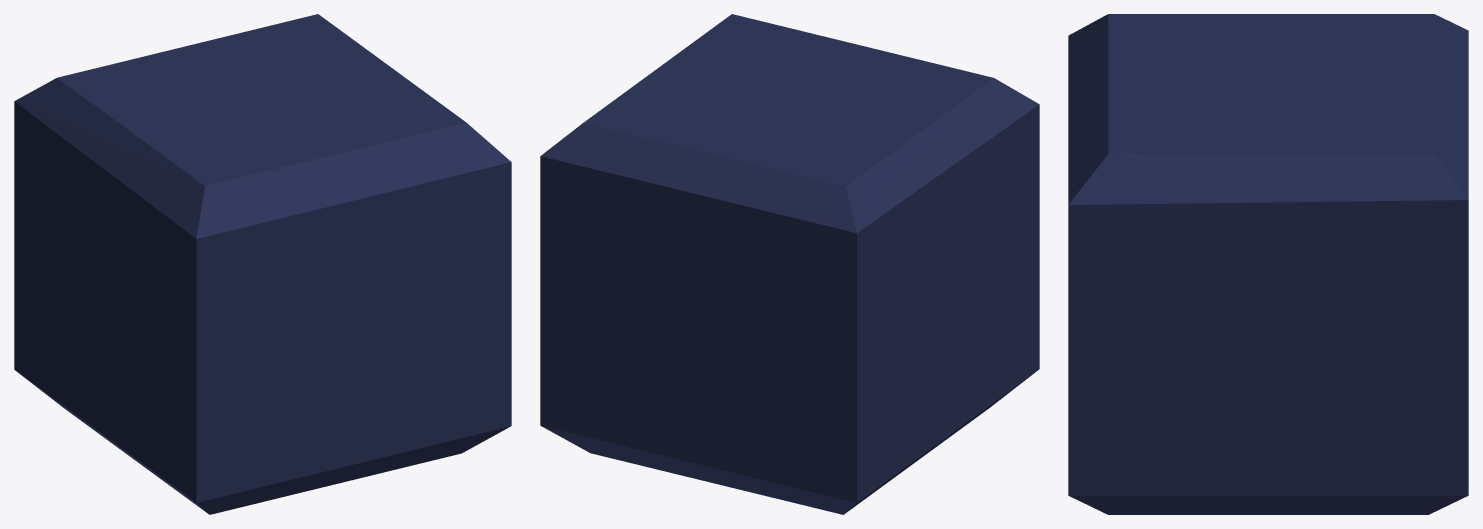
3 renders of one model, left to right at view 1: azimuth 30°, elevation 25°; view 2: azimuth 150°, elevation 25°; view 3: azimuth 270°, elevation 25°, orthographic. The views are drawn at different scales.
Parts seen in each view (by area): view 1: obj_0.011; view 2: obj_0.011; view 3: obj_0.011.
Boxes of the visible parts, bbox=[...] form: obj_0.011: bbox=[14, 14, 511, 514]; obj_0.011: bbox=[540, 14, 1039, 514]; obj_0.011: bbox=[1068, 14, 1468, 514].
Bounding box in the file's own units: 1000 × 1000 × 1000.
